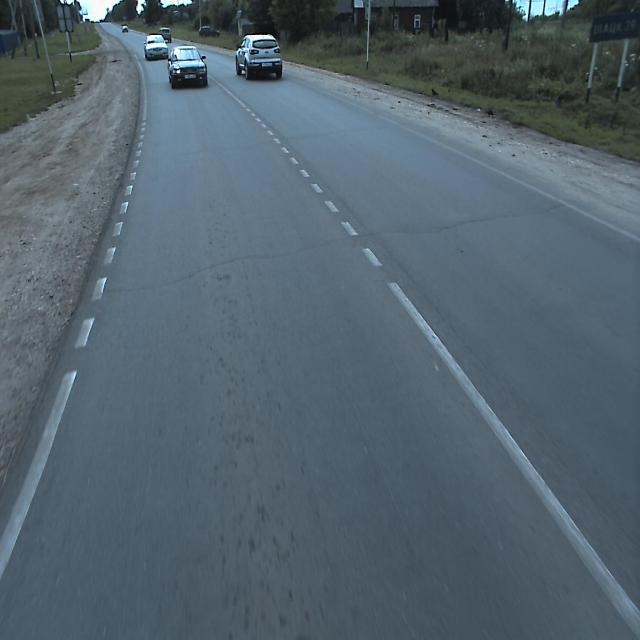road: (0, 22, 640, 639), (166, 40, 185, 56)
